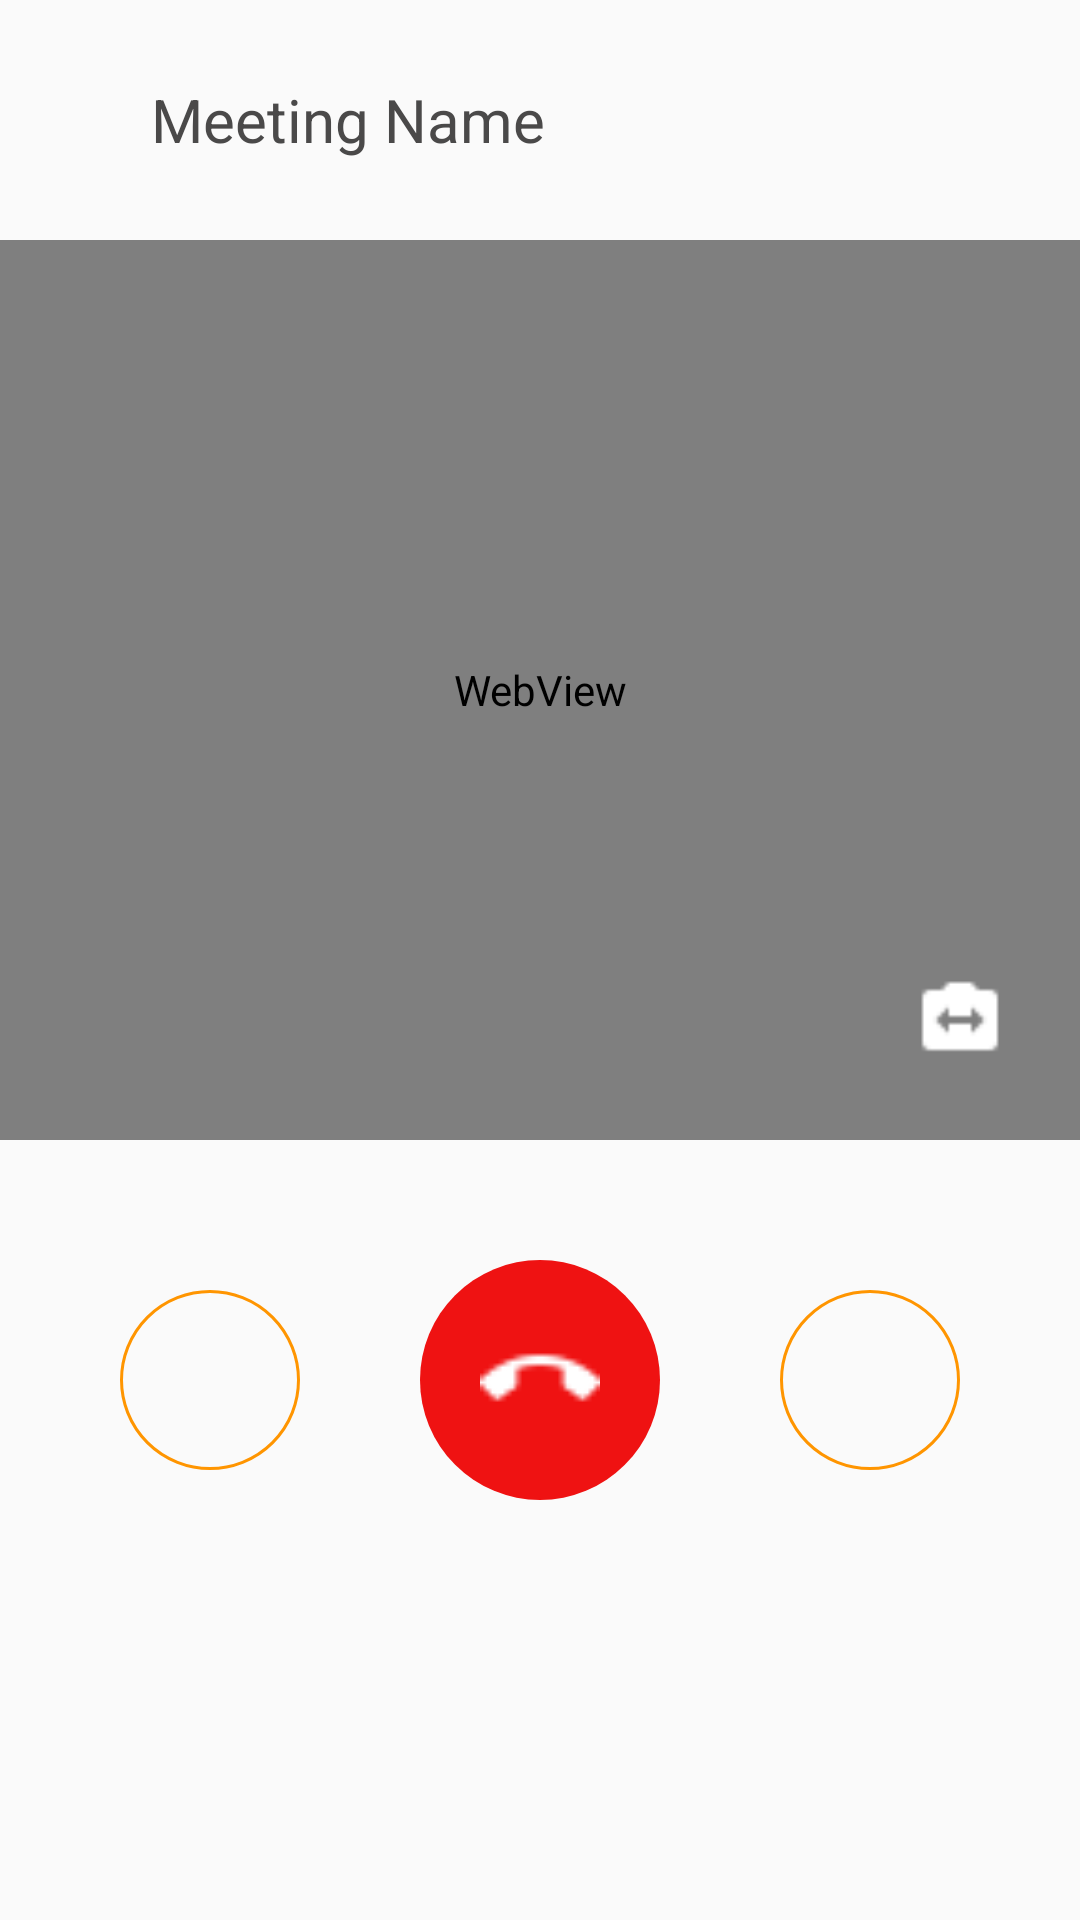

Screen size 1080 x 1920. Icon name, then its box in pixels as (x1,y1,x2,y2):
End call: (420,1260,660,1500)
Switch front/back cameras: (921,981,999,1051)
